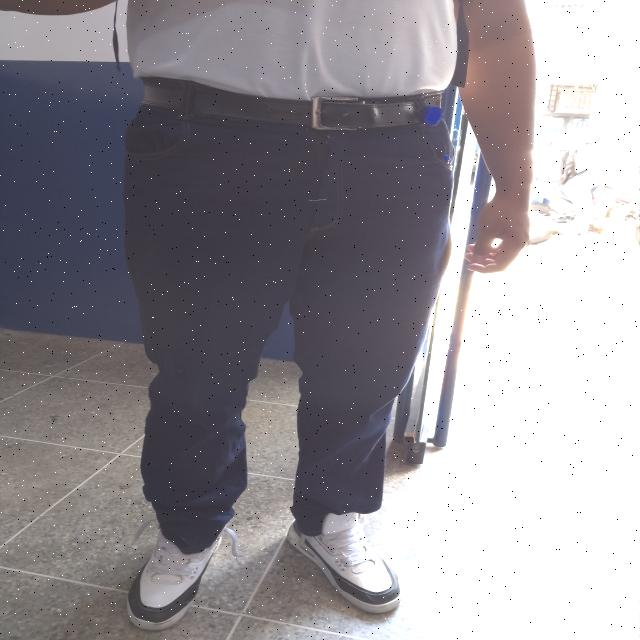pantalon_oscuro: (120, 101, 455, 556)
